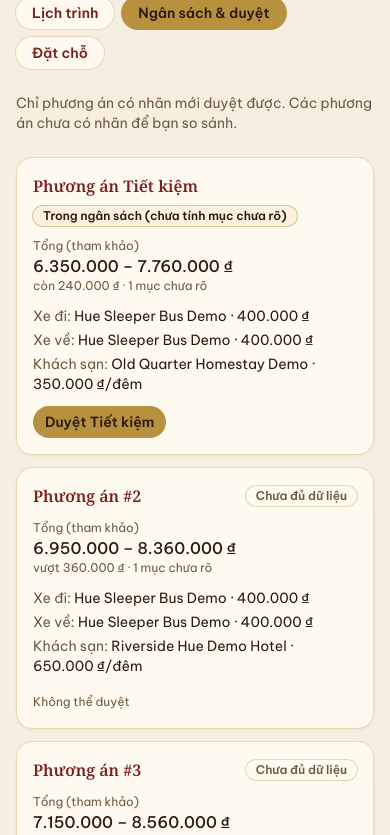
Test: budget tab › asks the user to reload when the plan version has moved on (409)
This screenshot has width=390, height=835.
(page scrolled)
Step 1. Click the button "Duyệt Tiết kiệm" → (100, 422), box [33,406,166,438]
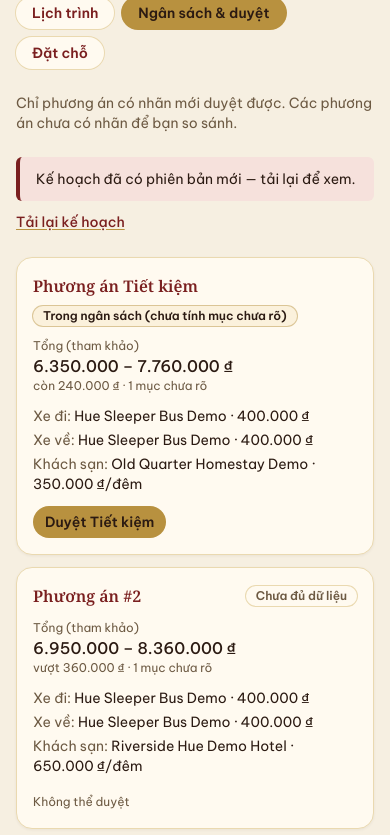
Now the message reads "Kế hoạch đã có phiên bản mới — tải lại để xem.", box [36,170,356,188]
Now the button "Tải lại kế hoạch" is shown, box [16,212,125,232]
